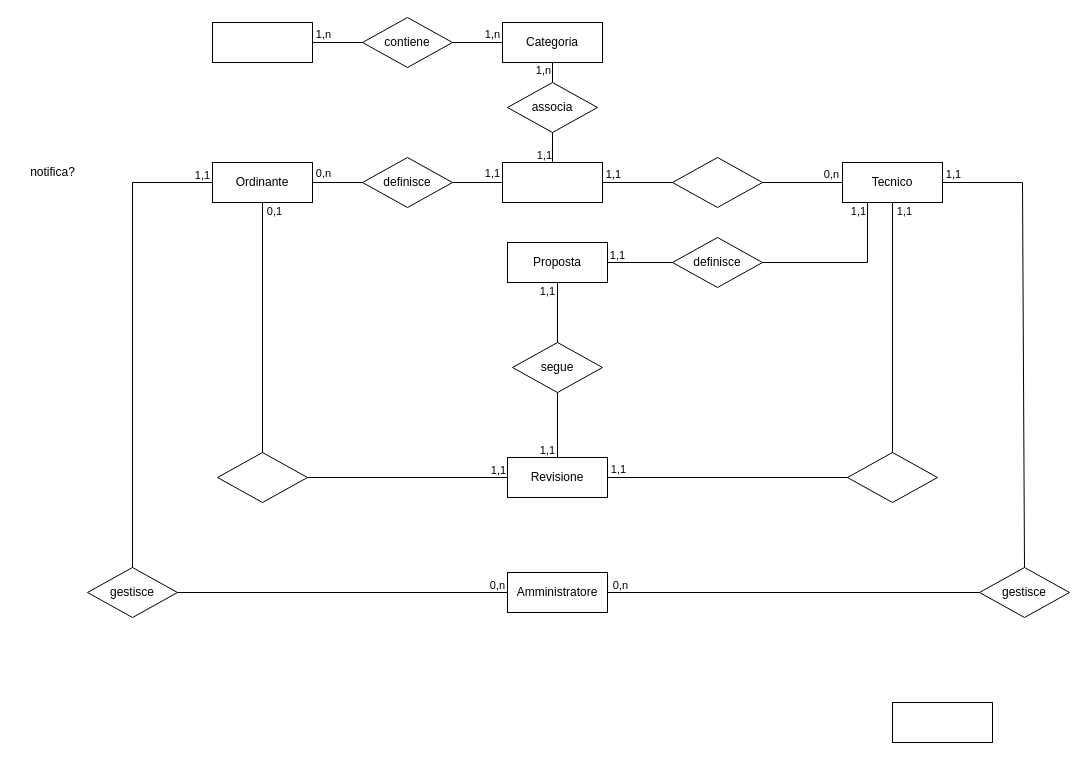
The diagram is 1087 pixels wide and 760 high, and some of its shapes have lost their labels. Each missing label, with the centre of its shape:
"assegna" belongs at pixel 717 182.
"Caratteristica" belongs at pixel 262 42.
"invia" belongs at pixel 262 477.
"Ordine" belongs at pixel 942 722.
"riceve" belongs at pixel 892 477.
"Richiesta" belongs at pixel 552 182.
